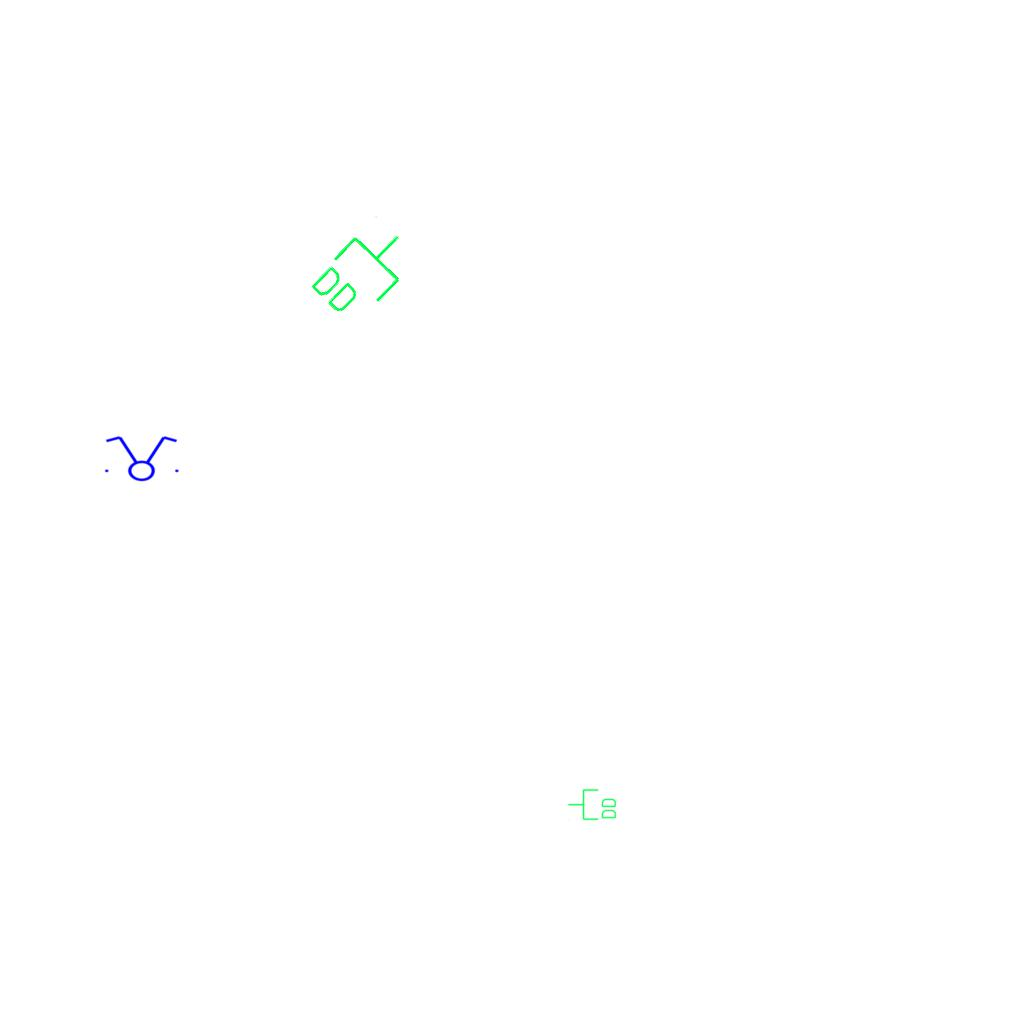Datenanschluss_zweifach: (302, 210, 425, 333), (567, 788, 618, 822)
Serienschalter: (99, 434, 183, 482)
